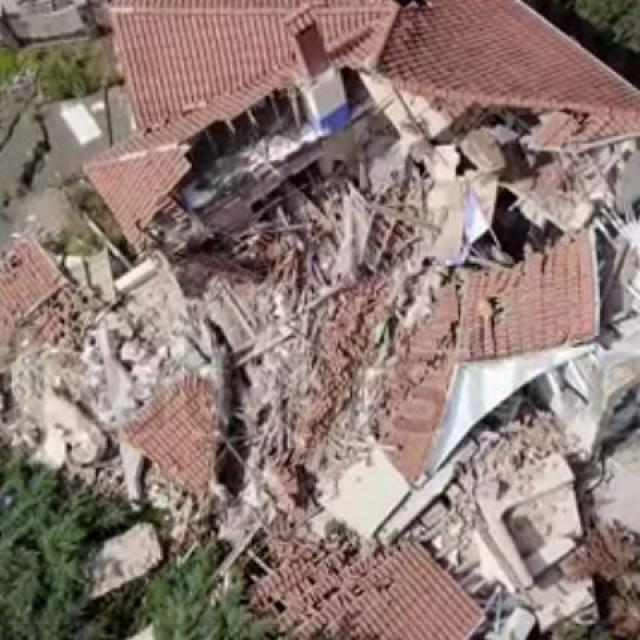collapsed_building: (0, 92, 632, 551)
